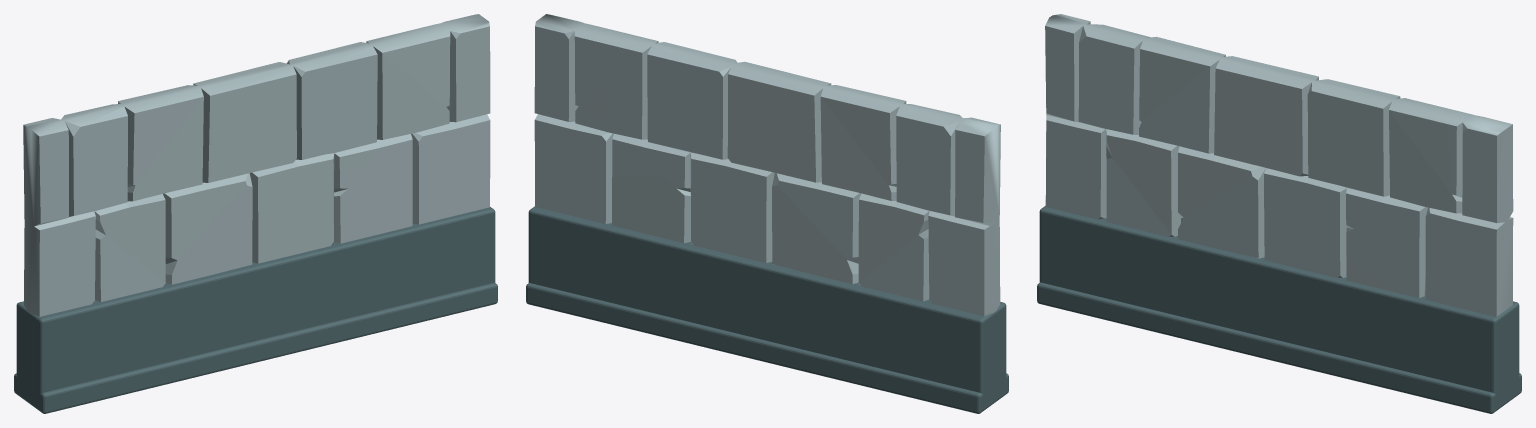
Rendered from wall mini stone up.fbx.
3 renders of one model, left to right at view 1: azimuth 30°, elevation 25°; view 2: azimuth 150°, elevation 25°; view 3: azimuth 330°, elevation 25°, orthographic.
Parts seen in each view (by area): view 1: wall mini stone up; view 2: wall mini stone up; view 3: wall mini stone up.
Boxes of the visible parts, x1,y1,x2,y2 form: wall mini stone up: (14,14,497,413); wall mini stone up: (526,14,1008,413); wall mini stone up: (1037,14,1521,413).
Bounding box in the file's own units: 400 × 232 × 46.25.
